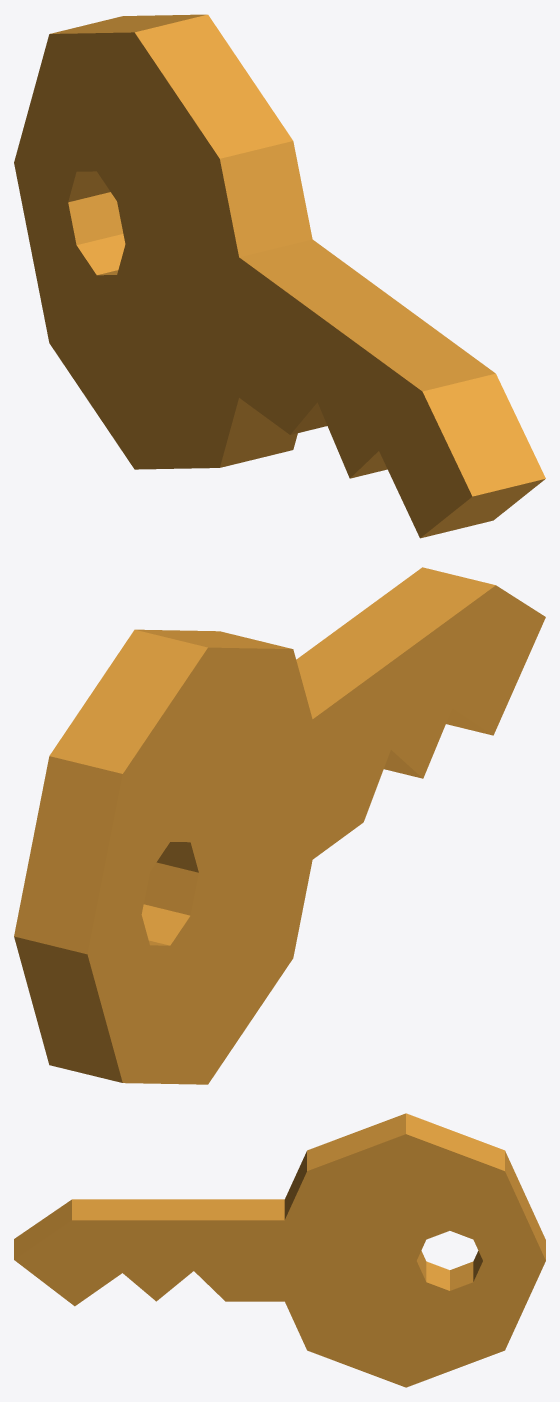
The model's file is key.fbx.
3 renders of one model, top to bottom at view 1: azimuth 30°, elevation 25°; view 2: azimuth 150°, elevation 25°; view 3: azimuth 270°, elevation 25°, orthographic. The views are drawn at different scales.
Parts seen in each view (by area): view 1: key_1; view 2: key_1; view 3: key_1.
Boxes of the visible parts, x1=… form: key_1: x1=14, y1=14, x2=545, y2=538; key_1: x1=14, y1=567, x2=545, y2=1084; key_1: x1=14, y1=1113, x2=545, y2=1387.
Size of the model in its own units: 41.67 by 237 by 450.
